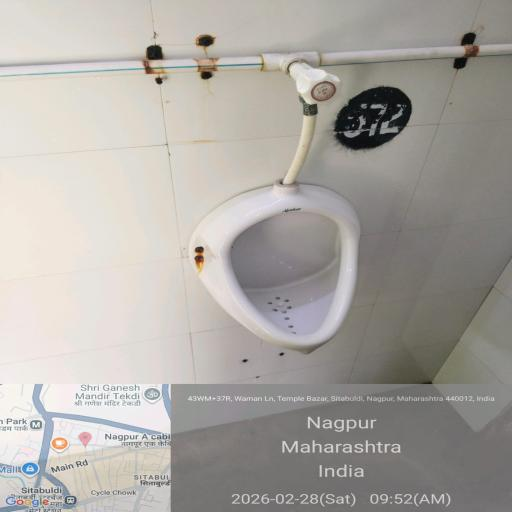clean_floor: (91, 27, 412, 151)
clean_urinal: (176, 182, 392, 368)
